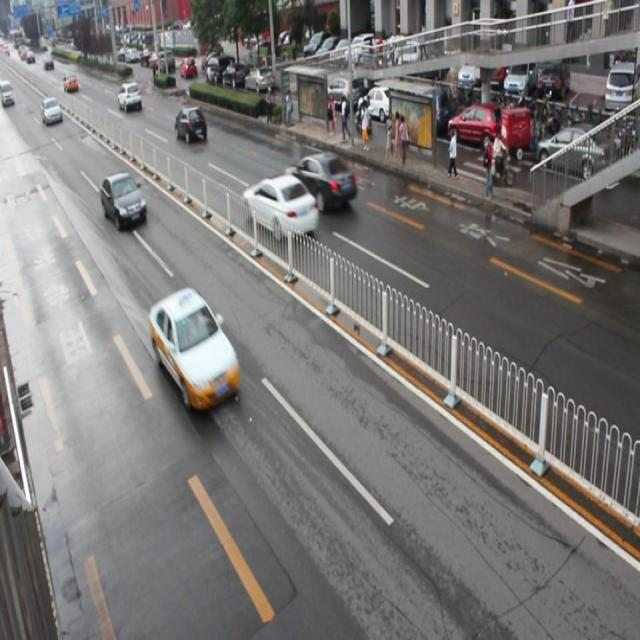car: (149, 287, 241, 412), (242, 174, 318, 241), (286, 151, 356, 212), (100, 171, 148, 230), (175, 105, 208, 144)
